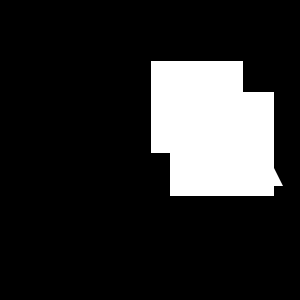circle: (170, 92, 274, 196), (151, 61, 243, 153), (219, 169, 239, 189)
triangle: (202, 105, 283, 186)
